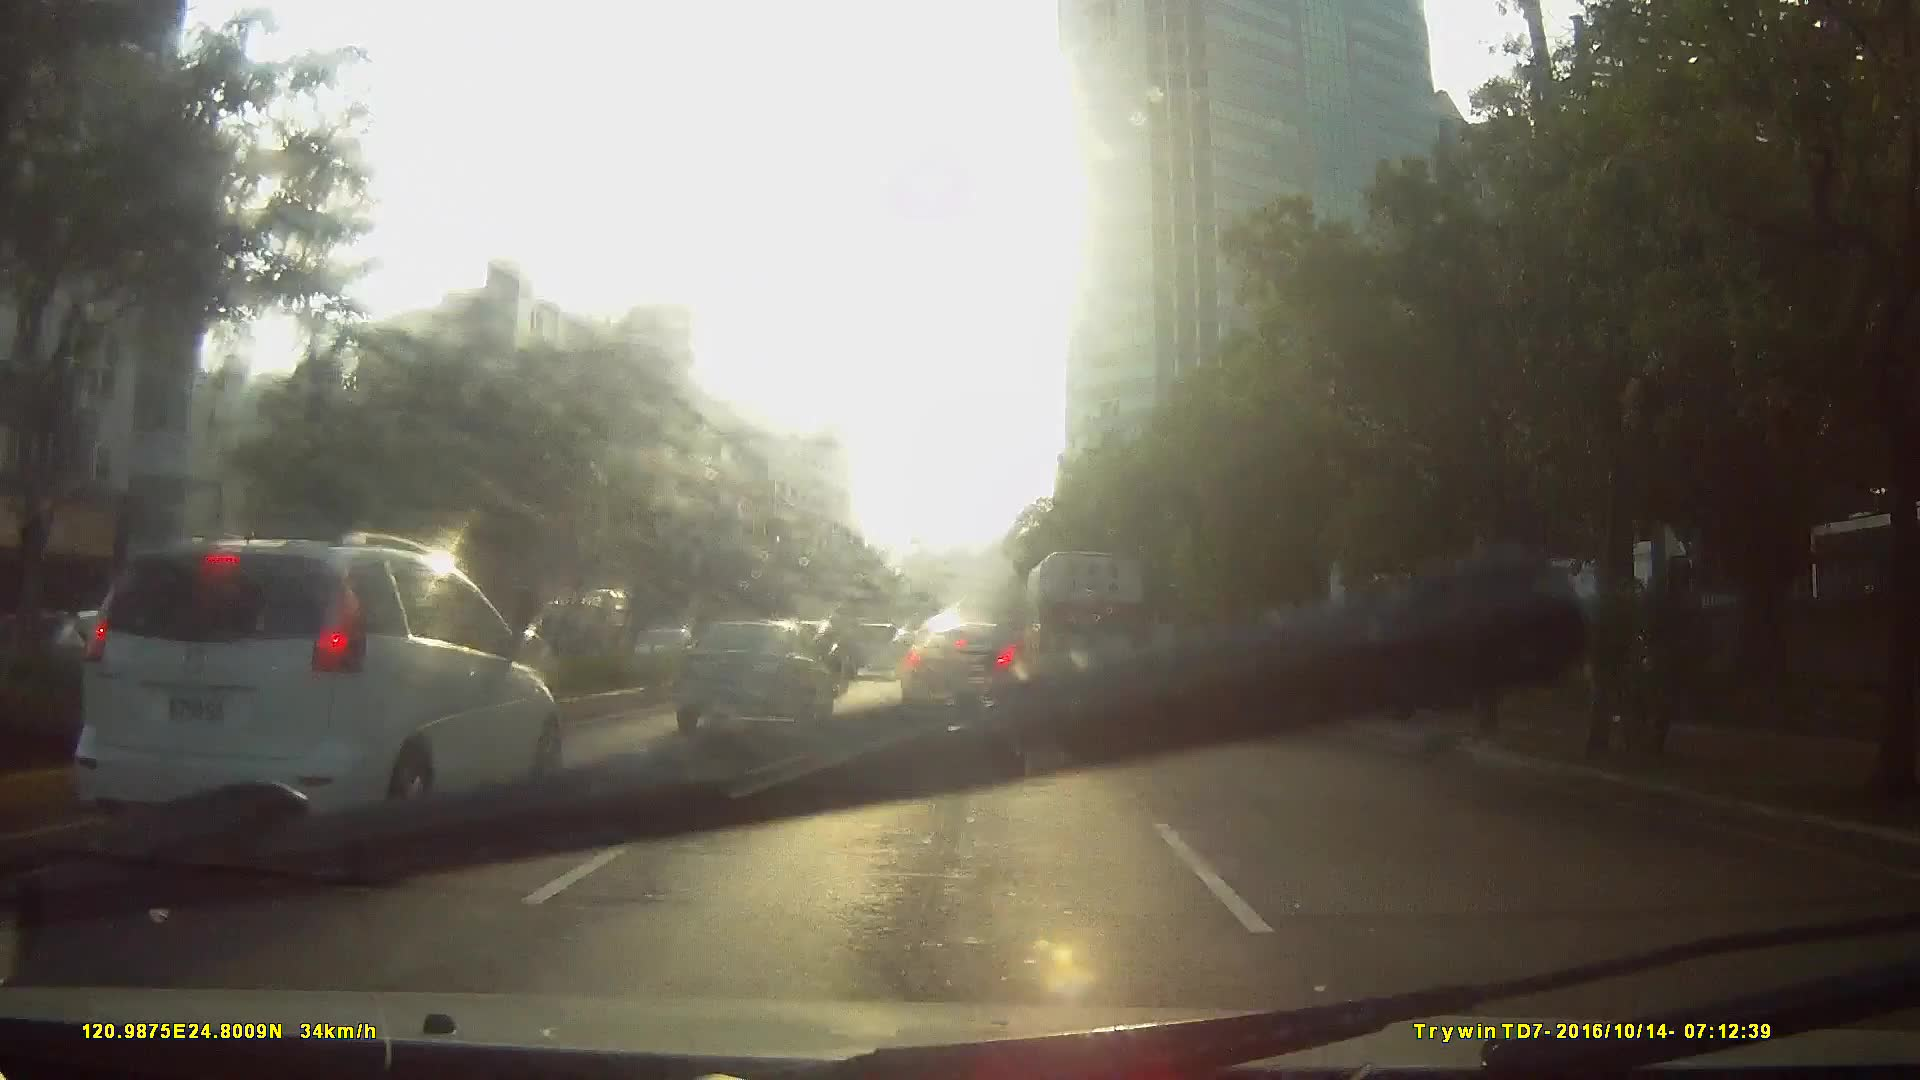vehicle: (69, 517, 567, 877), (251, 556, 684, 868), (663, 615, 831, 735), (1021, 539, 1145, 692), (895, 617, 1021, 717), (524, 582, 622, 669), (845, 620, 903, 680)
